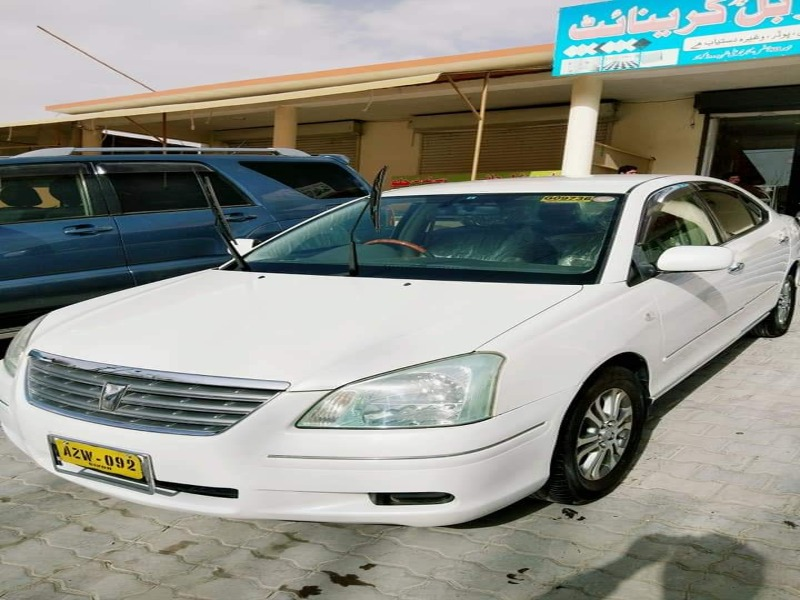License Plate: (49, 432, 156, 499)
